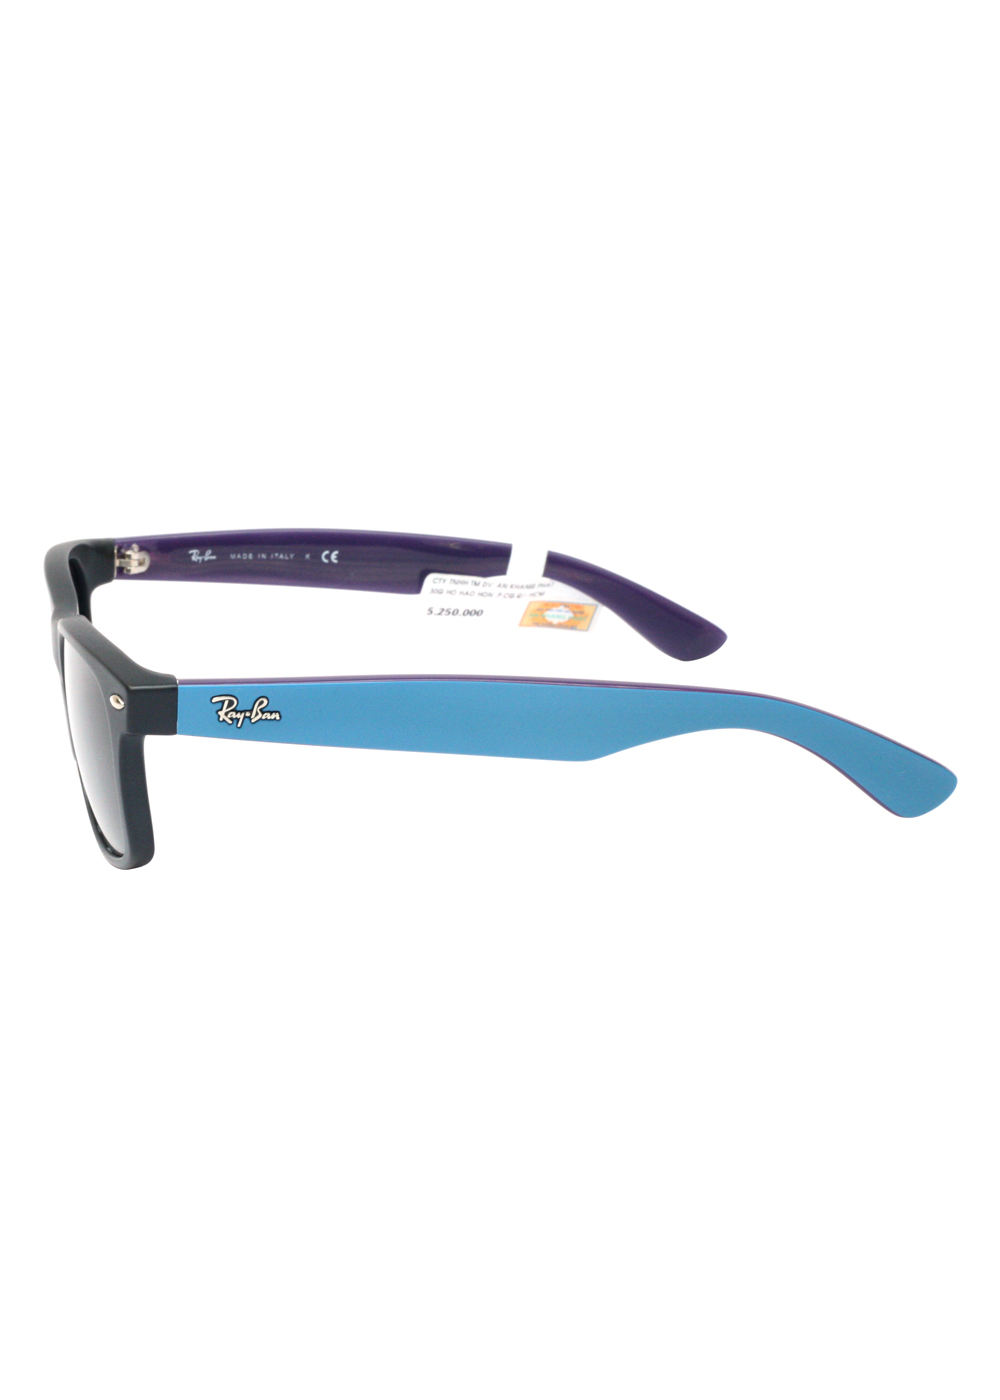Rayban: (205, 688, 288, 734), (181, 541, 220, 564)
